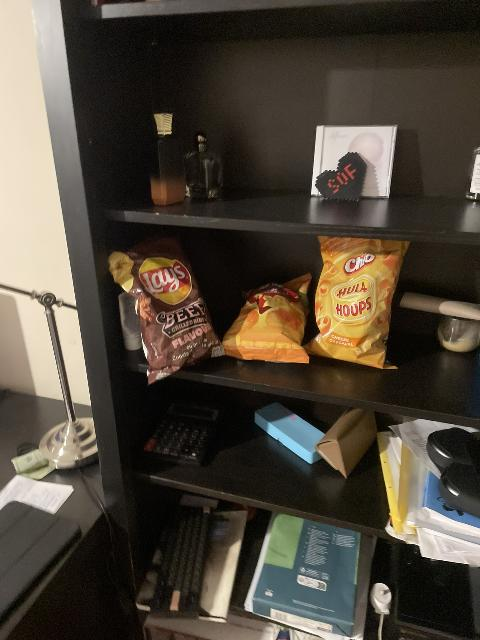Chio Cascaval 125g: (220, 274, 315, 365)
Chio Hula Hoops Cheese 70g: (311, 239, 413, 368)
Lays Beef Grilled Ribs 125g: (109, 238, 225, 385)
